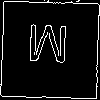M: (25, 24, 70, 72)
